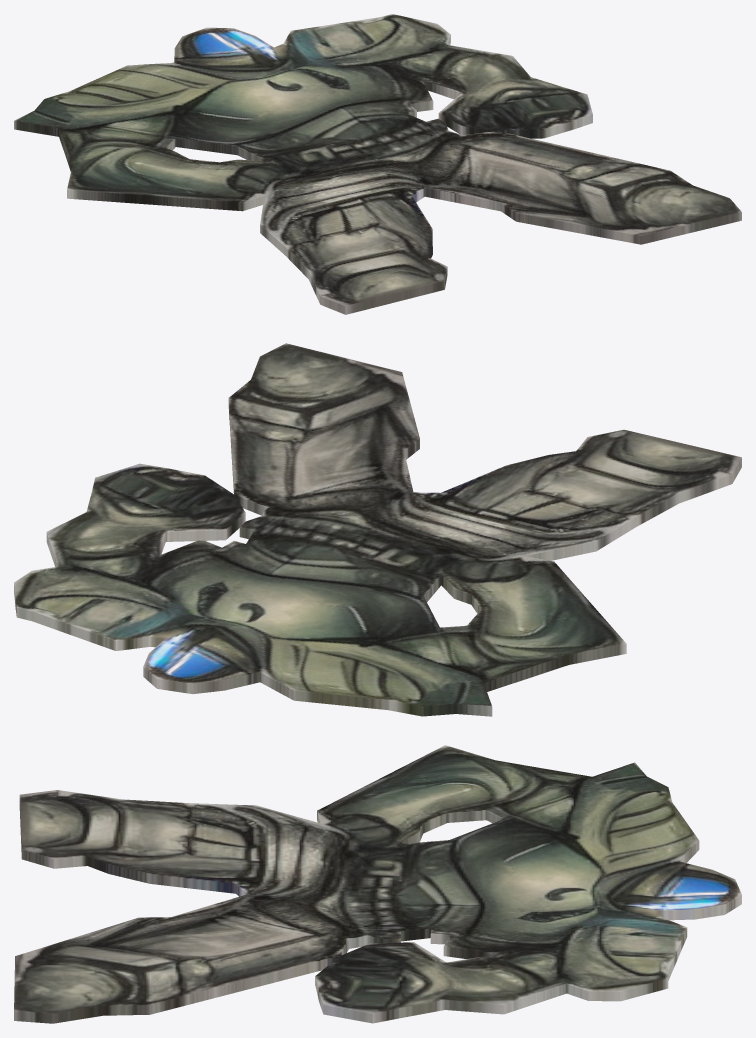
File: dream_13.glb
The picture shows the model from 3 angles, top to bottom: view 1: azimuth 30°, elevation 25°; view 2: azimuth 150°, elevation 25°; view 3: azimuth 270°, elevation 25°; orthographic projection. The views are drawn at different scales.
Visible parts, largest first — view 1: dream_13; view 2: dream_13; view 3: dream_13.
Part boxes in pixels (box(x1,y1,x2,y2)): dream_13: box(14, 14, 741, 314); dream_13: box(14, 343, 741, 716); dream_13: box(14, 745, 741, 1023).
Size of the model in its own units: 0.2995 by 0.005 by 0.3426.
Materials: 1 (1 with a texture image).
